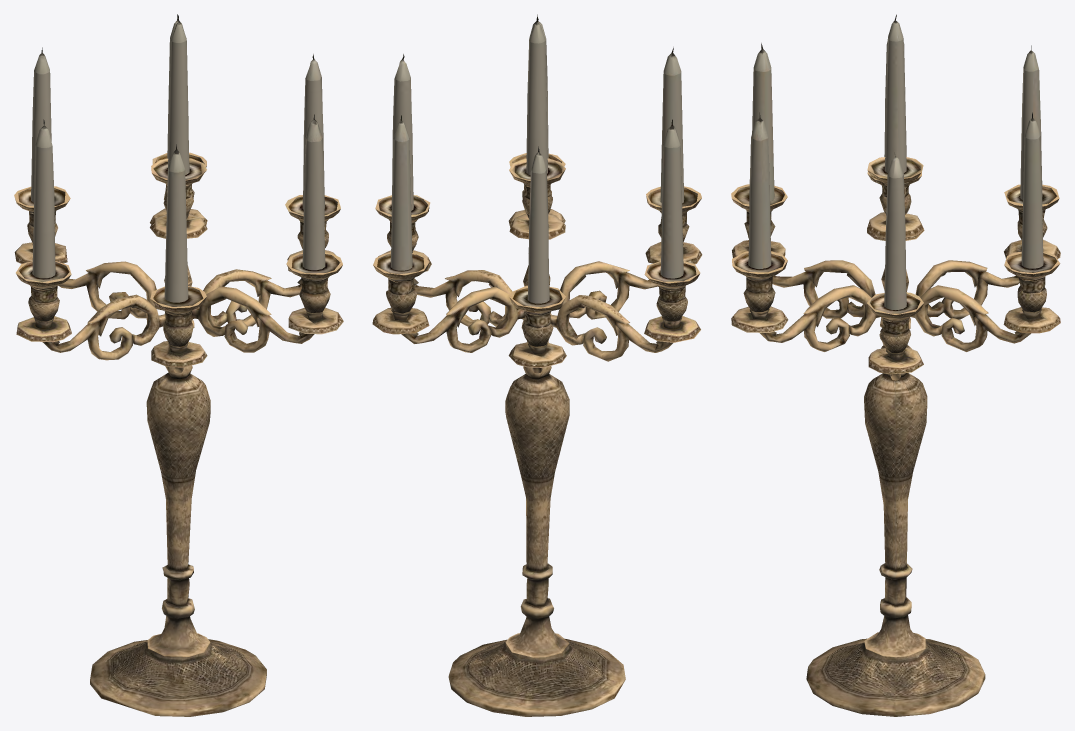
Rendered from brass_candleholders__c.glb.
3 renders of one model, left to right at view 1: azimuth 30°, elevation 25°; view 2: azimuth 150°, elevation 25°; view 3: azimuth 270°, elevation 25°, orthographic.
Parts seen in each view (by area): view 1: brass_candleholders_03; view 2: brass_candleholders_03; view 3: brass_candleholders_03.
Part boxes in pixels (x1=…): brass_candleholders_03: x1=14, y1=14, x2=343, y2=716; brass_candleholders_03: x1=372, y1=14, x2=702, y2=716; brass_candleholders_03: x1=731, y1=14, x2=1060, y2=716.
Size of the model in its own units: 0.407 by 0.8091 by 0.3636.
Materials: 1 (1 with a texture image).
